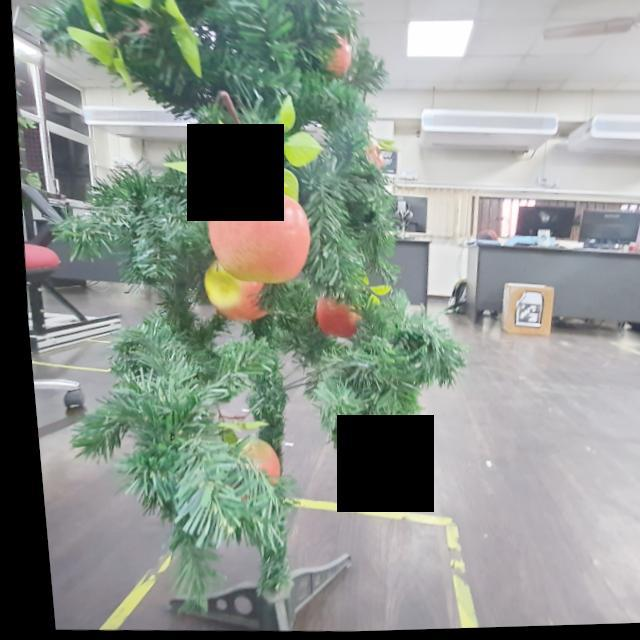Tree: (1, 1, 491, 640)
